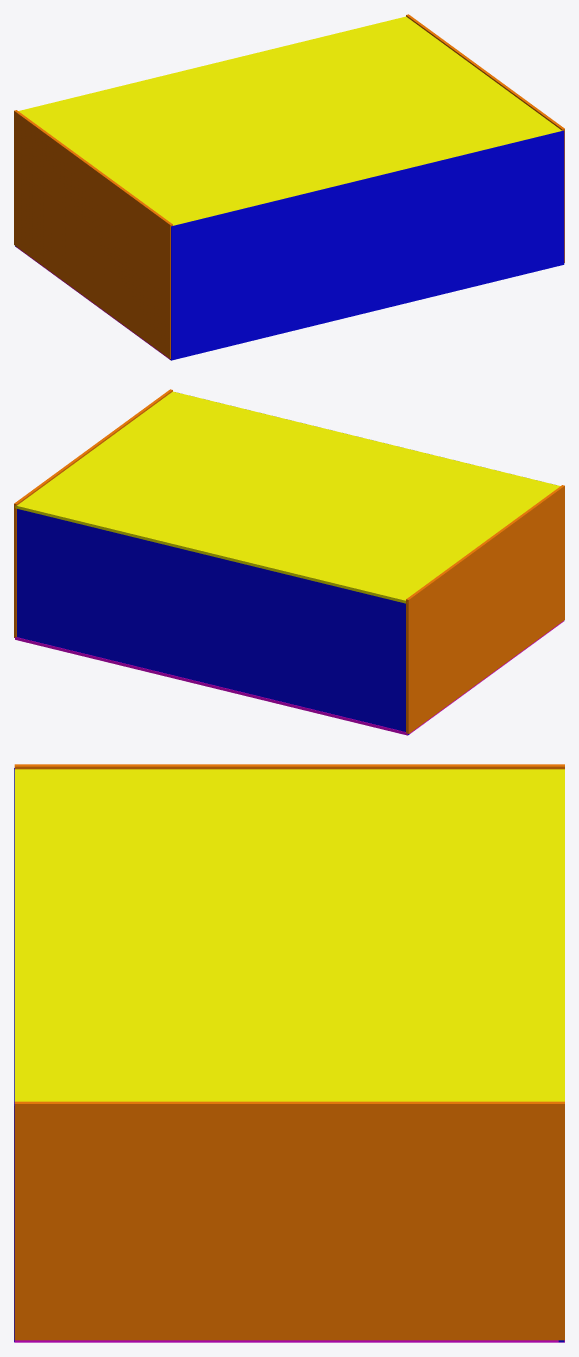
The model's file is main_stage.glb.
The picture shows the model from 3 angles, top to bottom: view 1: azimuth 30°, elevation 25°; view 2: azimuth 150°, elevation 25°; view 3: azimuth 270°, elevation 25°; orthographic projection. The views are drawn at different scales.
Parts seen in each view (by area): view 1: Cube.006, Cube.002, Cube.004, Cube.003; view 2: Cube.006, Cube.001, Cube.004, Cube, Cube.003; view 3: Cube.006, Cube.003, Cube.004, Cube.
Part boxes in pixels (x1=…): Cube.006: x1=18, y1=16, x2=562, y2=225; Cube.002: x1=169, y1=130, x2=564, y2=360; Cube.004: x1=14, y1=110, x2=172, y2=358; Cube.003: x1=406, y1=14, x2=564, y2=262; Cube.006: x1=15, y1=391, x2=560, y2=603; Cube.001: x1=17, y1=509, x2=409, y2=734; Cube.004: x1=406, y1=485, x2=564, y2=733; Cube: x1=15, y1=621, x2=563, y2=735; Cube.003: x1=14, y1=389, x2=172, y2=637; Cube.006: x1=14, y1=769, x2=564, y2=1101; Cube.003: x1=14, y1=1101, x2=564, y2=1340; Cube.004: x1=14, y1=764, x2=564, y2=769; Cube: x1=14, y1=1340, x2=564, y2=1342.
Bounding box in the file's own units: 52.35 × 17.22 × 35.91.
